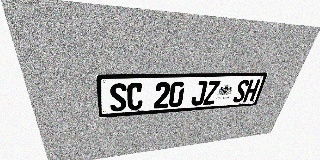0: (168, 81, 185, 108)
2: (154, 82, 171, 109)
C: (127, 83, 143, 111)
H: (243, 79, 261, 102)
J: (190, 81, 208, 106)
S: (109, 83, 127, 112), (232, 80, 250, 103)
Z: (203, 80, 221, 105)
